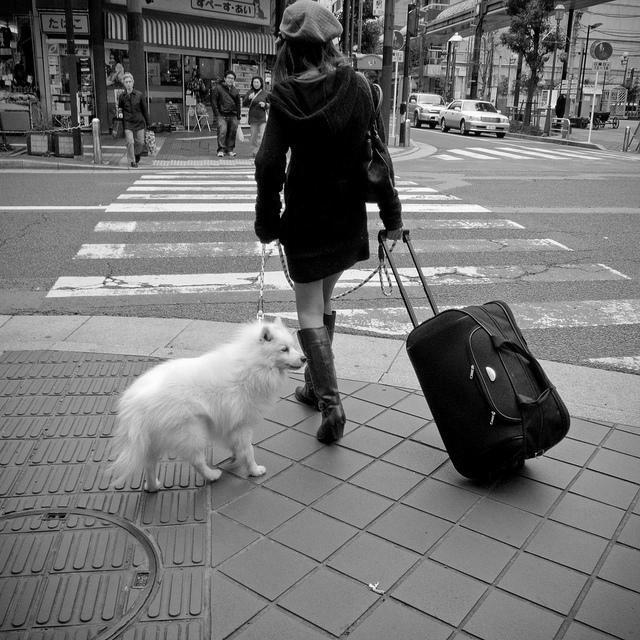vehicle: (439, 100, 509, 139), (408, 94, 447, 130)
